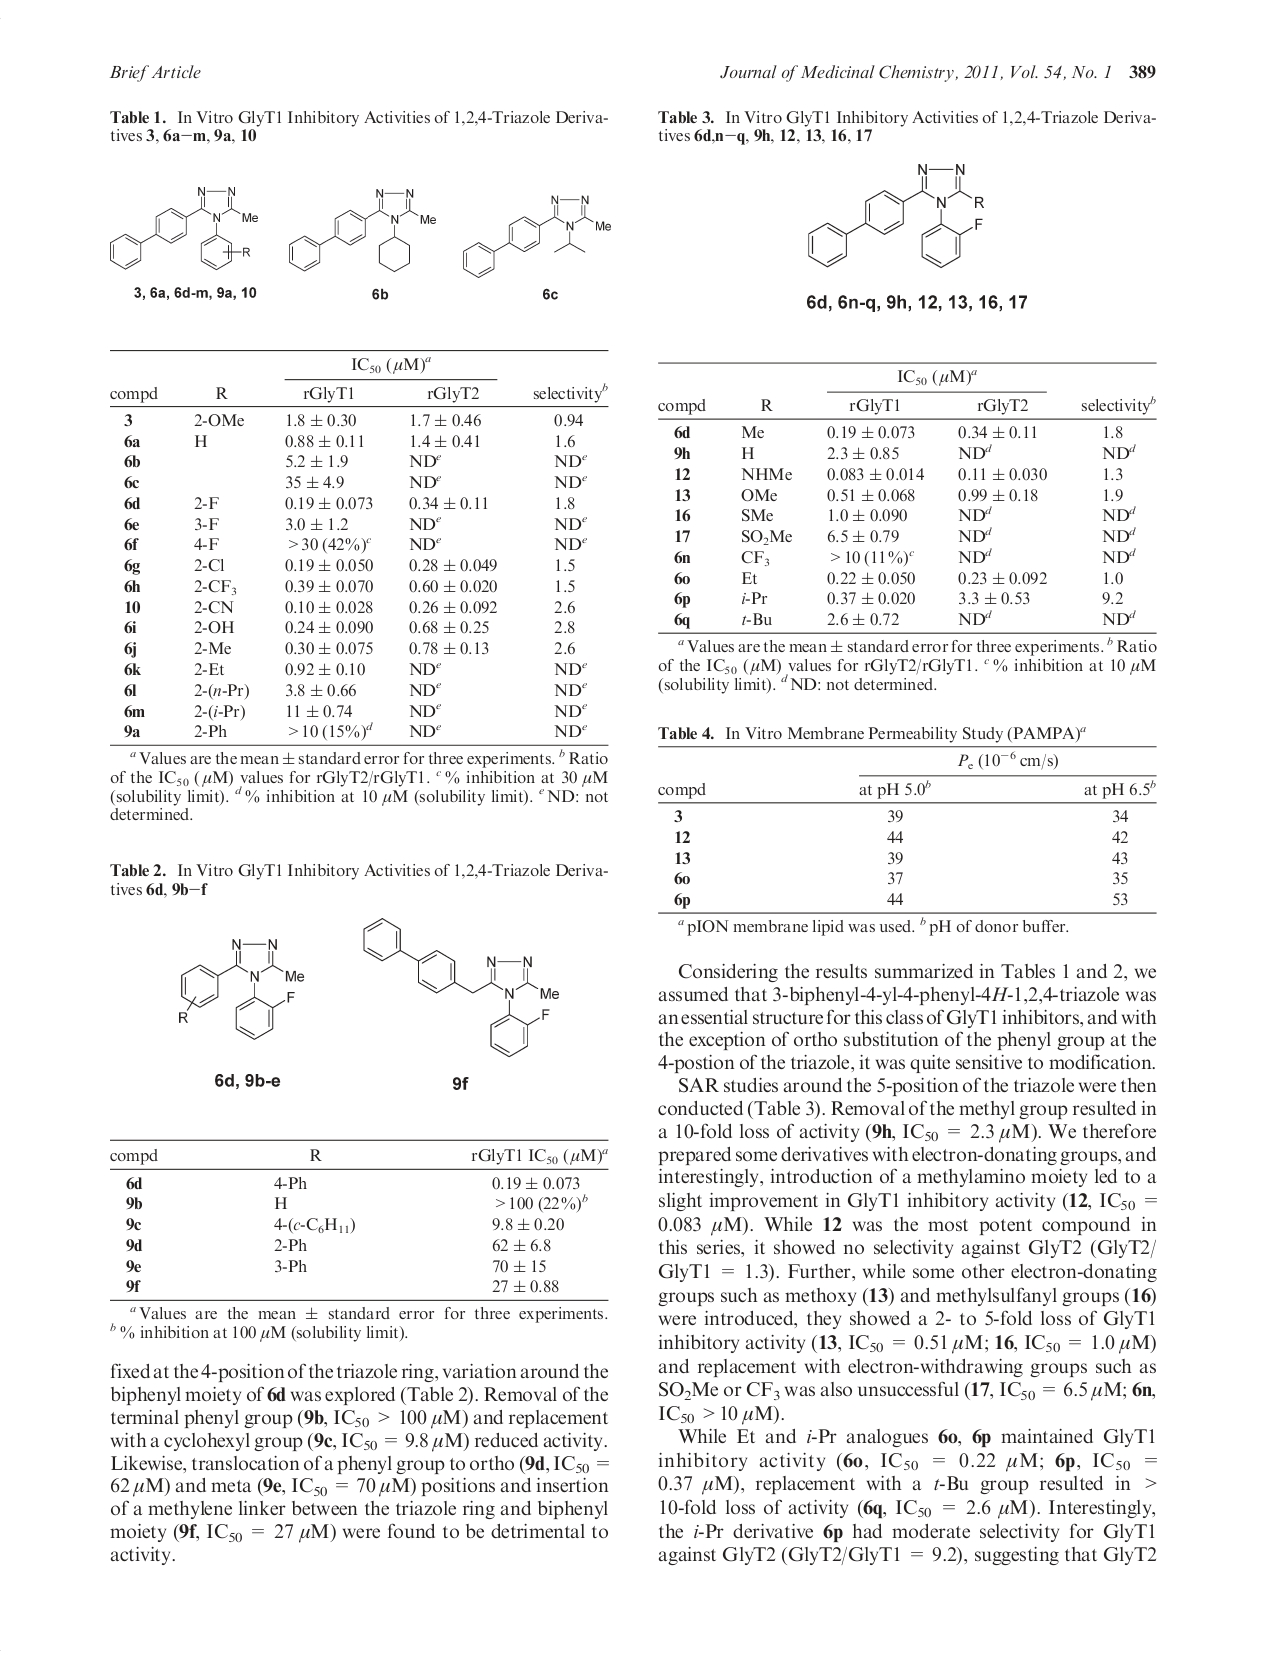exist_molecular: (356, 914, 564, 1059), (805, 158, 988, 270), (457, 189, 617, 281), (174, 938, 309, 1043), (109, 184, 259, 273), (287, 188, 439, 273)
